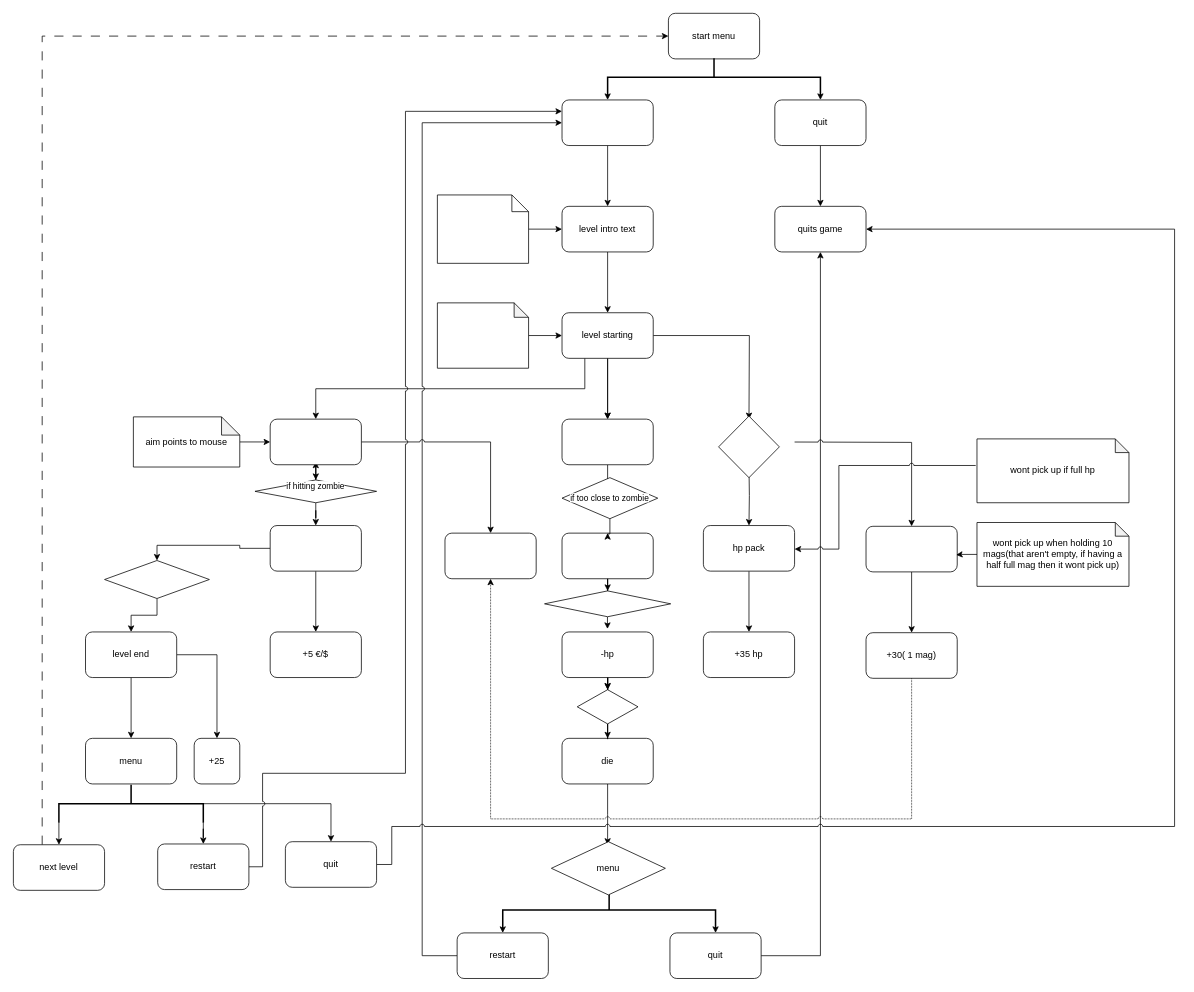
This 1194x992 diagram has some shape labels left out. The box of each missing label's shape, as (x1, y1, x2, y2) in pixels:
ammo box: (865, 526, 957, 572)
an (ar) mag is 30 bullets, you start with 90 ammo and 100hp: (437, 302, 529, 368)
for about 10-20 seconds. 2 sentences of text: (437, 194, 529, 263)
if all zombies dead: (104, 560, 209, 598)
if hp <= 0: (576, 689, 638, 724)
if shot 30 bullets, need to reload: (444, 532, 536, 579)
if touching item: (718, 415, 779, 478)
if zomvbie touches: (544, 590, 671, 617)
shooting: (269, 418, 361, 465)
start: (561, 99, 653, 146)
walking: (561, 418, 653, 465)
zombie die: (269, 525, 361, 571)
zombie follow: (561, 532, 653, 579)
